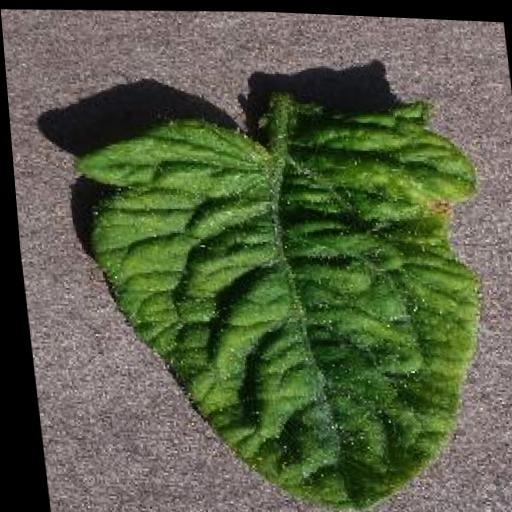Yellow Leaf Curl Virus: (65, 78, 507, 512)
